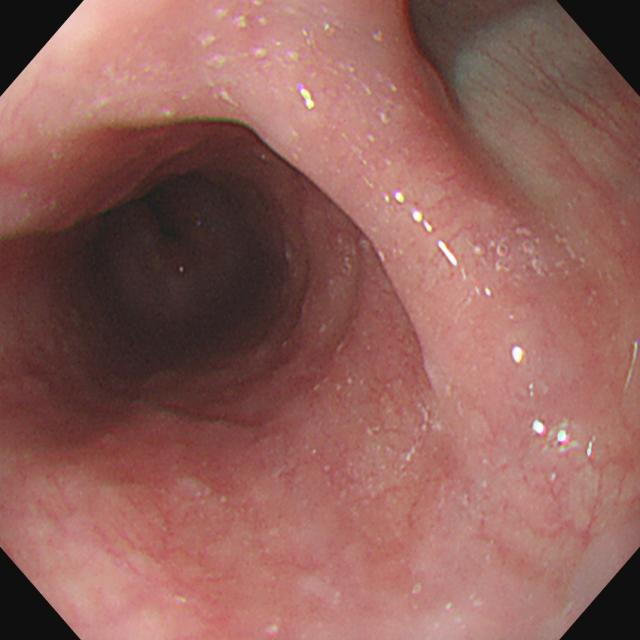E: (104, 173, 284, 361)
U: (397, 192, 461, 271), (533, 422, 580, 451), (509, 341, 530, 367), (300, 86, 316, 113)
